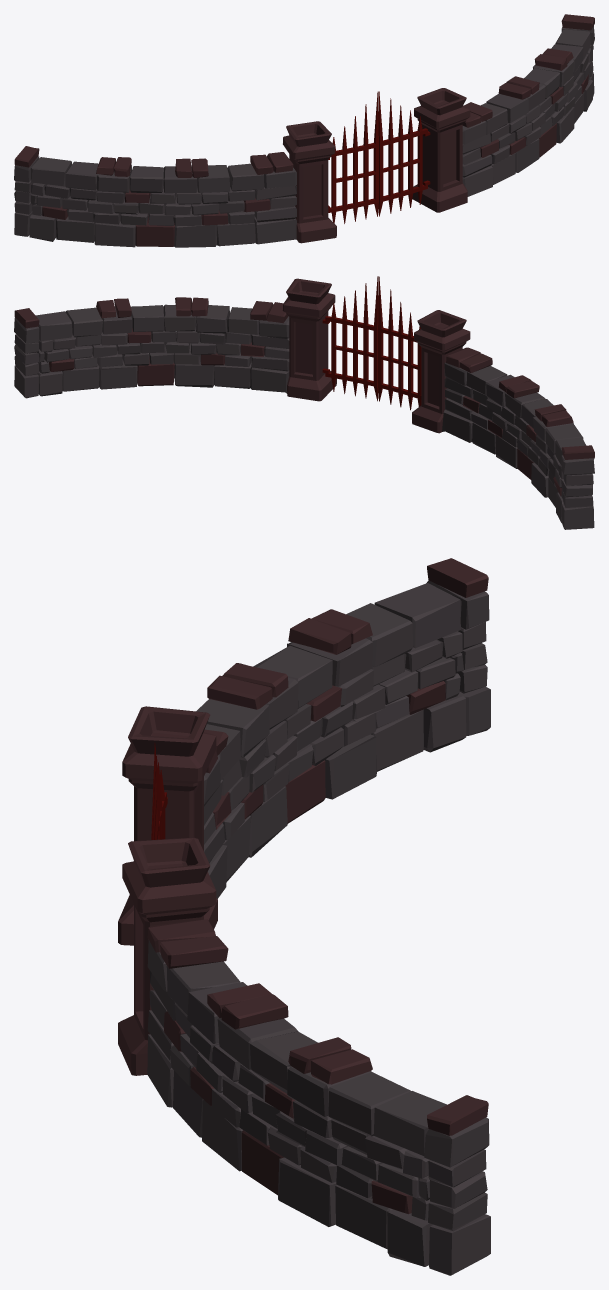
File: gate_bend.fbx
3 views of the same model, one above another, from view 1: azimuth 30°, elevation 25°; view 2: azimuth 150°, elevation 25°; view 3: azimuth 270°, elevation 25° (orthographic). The views are drawn at different scales.
Parts seen in each view (by area): view 1: awall, agate2, agate; view 2: awall, agate2, agate; view 3: awall.
Boxes of the visible parts, box(x1,y1,x2,y2) form: awall: box(14, 14, 594, 247); agate2: box(378, 91, 427, 216); agate: box(328, 92, 378, 223); awall: box(14, 278, 594, 529); agate2: box(325, 276, 378, 401); agate: box(378, 276, 421, 410); awall: box(118, 558, 490, 1275).
Size of the model in its own units: 4576 by 967 by 1273.
